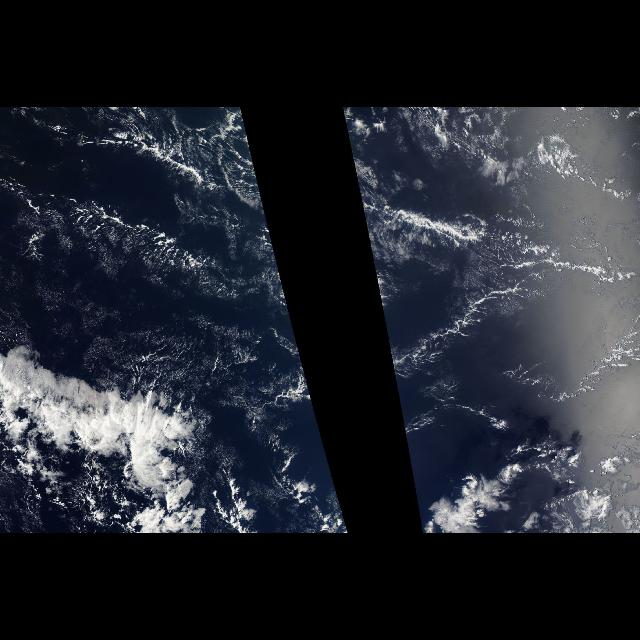Gravel: (394, 182, 640, 420), (16, 126, 270, 308)
Sugar: (34, 220, 292, 388)
